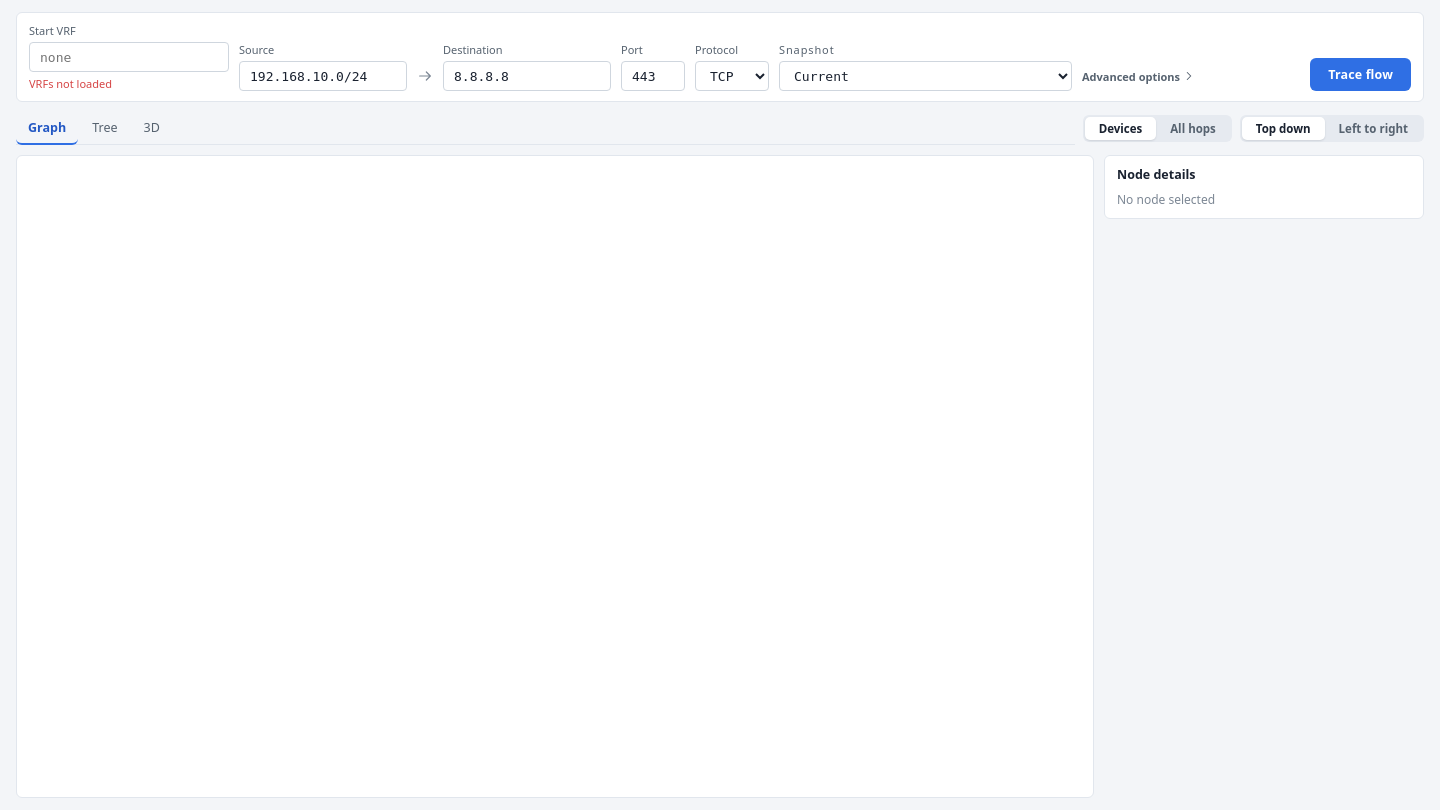
Test: TracePage: collapsible info and inspector blocks › both blocks render collapsed by default, and a header click expands and persists the state
Click the button "Trace flow". click: (1361, 74)
box: [1310,58,1411,91]
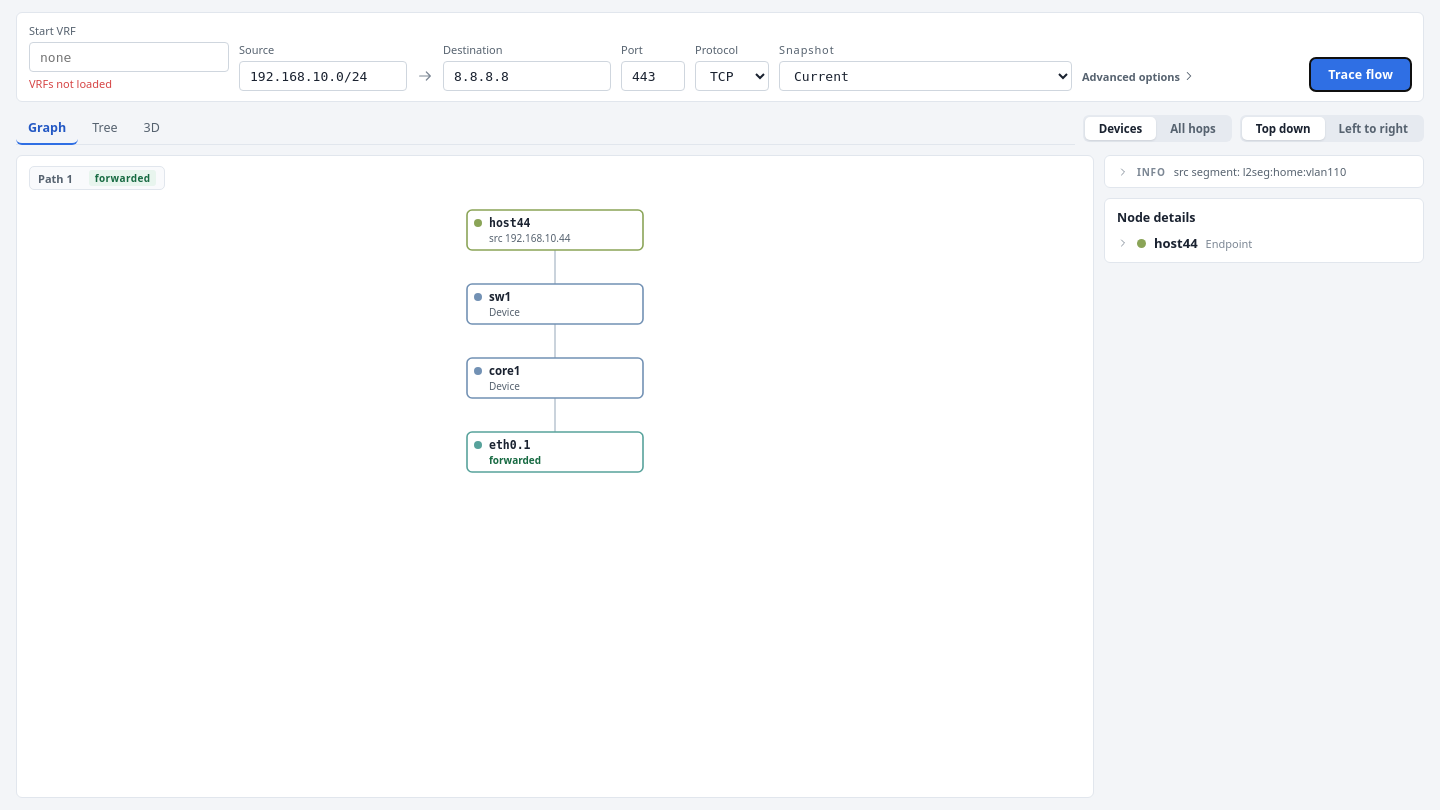
Check: the icon named "Path graph" is shown, box [455,198,655,484]
Click the button with class "tb-head" that starts with "Info". click: (1264, 172)
box: [1117,164,1411,179]
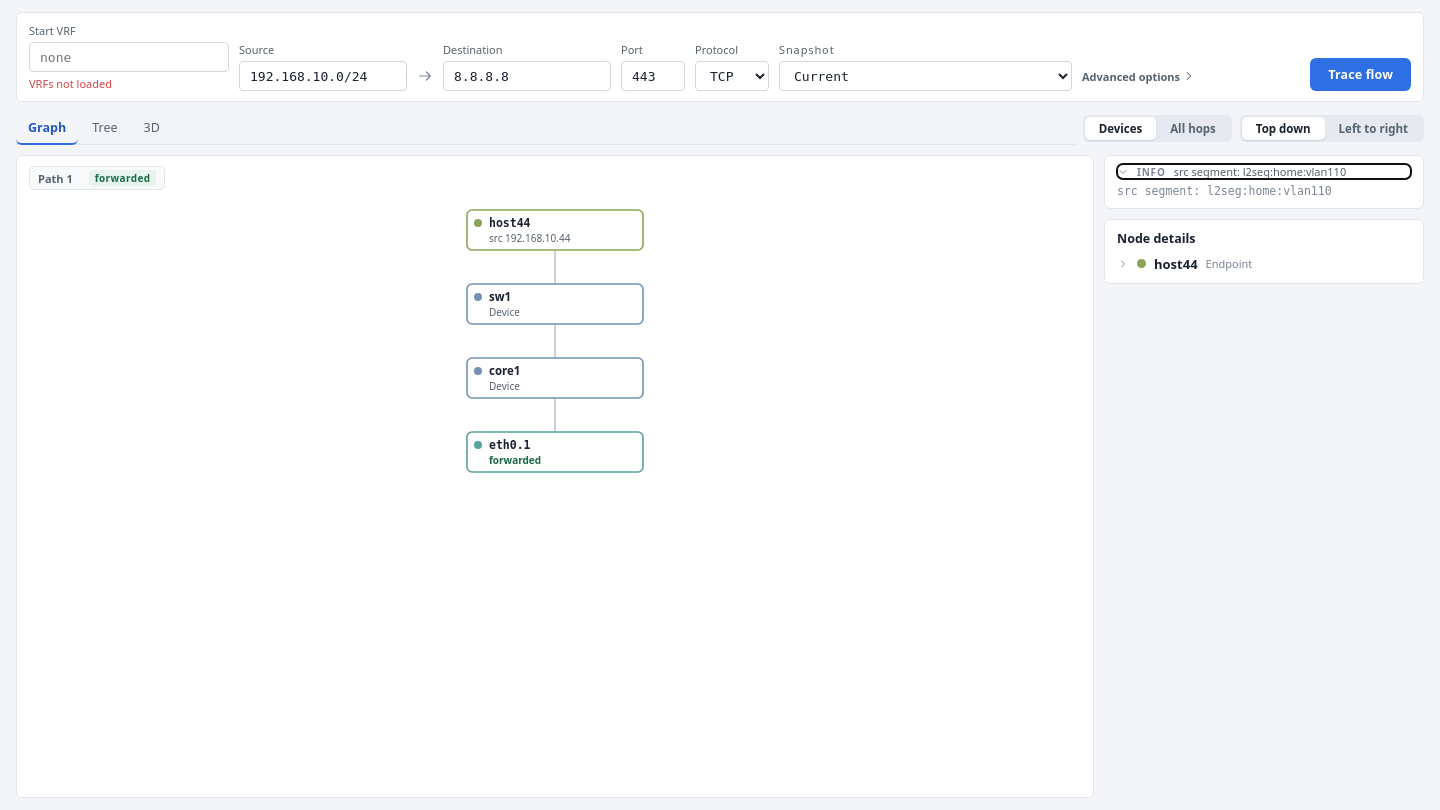
Check: the button with class "tb-head" is expanded
Check: the list is shown, box [1117,184,1332,198]
Click the button with class "tb-head" that starts with "Info". click: (1264, 172)
box: [1117,164,1411,179]
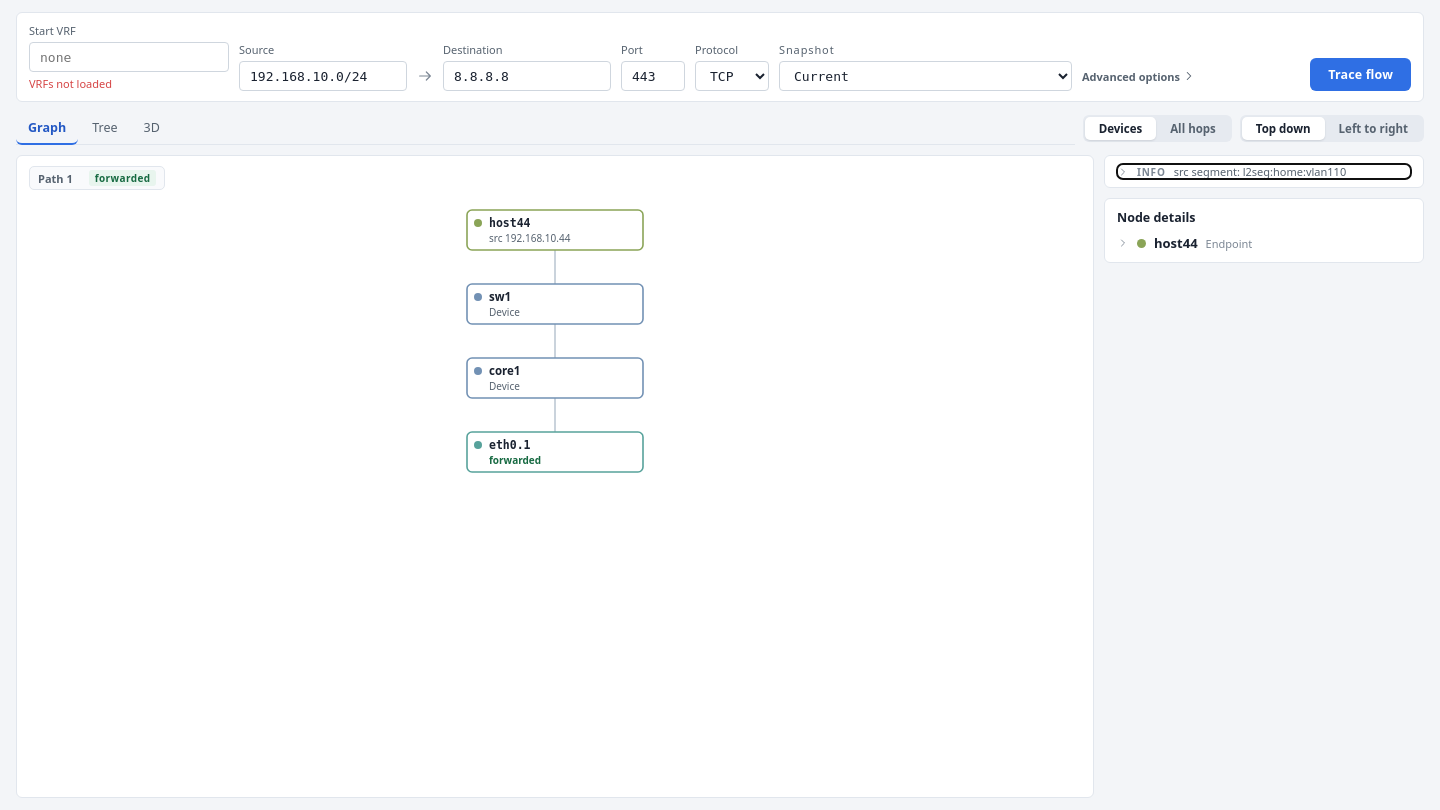
Check: the button with class "tb-head" is collapsed, box [1117,164,1411,179]
